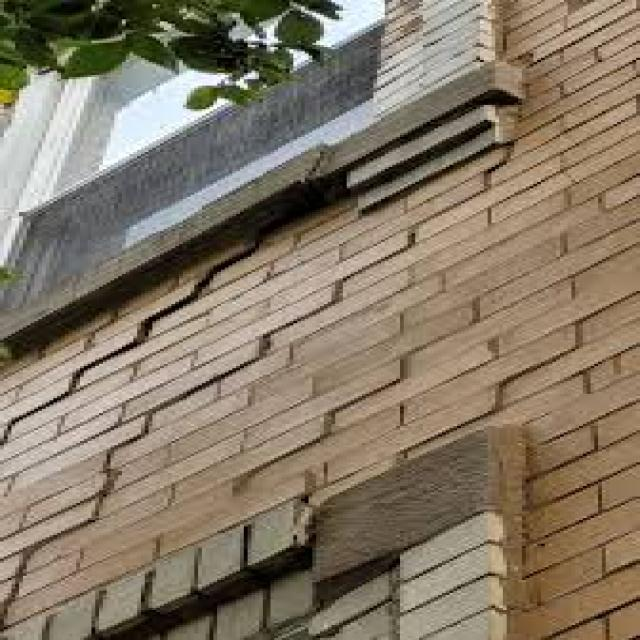Crack: (0, 139, 510, 616), (0, 223, 278, 447)
